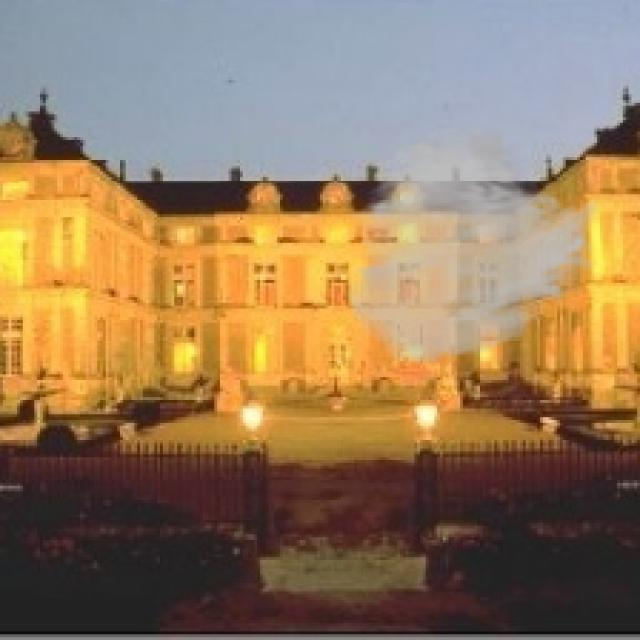Smoke: (343, 123, 606, 366)
